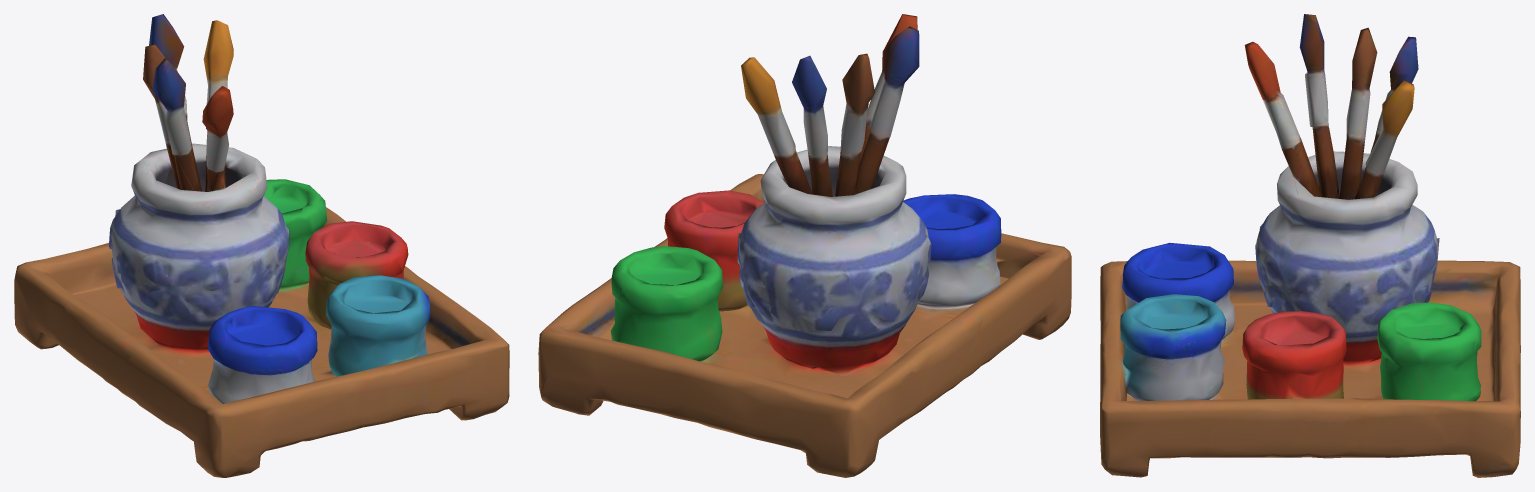
Rendered from paint-set.glb.
3 renders of one model, left to right at view 1: azimuth 30°, elevation 25°; view 2: azimuth 150°, elevation 25°; view 3: azimuth 270°, elevation 25°, orthographic. The views are drawn at different scales.
Parts seen in each view (by area): view 1: tripo_node_2d995150-5925-454d-bd44-f6c2e26e93f2; view 2: tripo_node_2d995150-5925-454d-bd44-f6c2e26e93f2; view 3: tripo_node_2d995150-5925-454d-bd44-f6c2e26e93f2.
Boxes of the visible parts, x1,y1,x2,y2 form: tripo_node_2d995150-5925-454d-bd44-f6c2e26e93f2: [14, 14, 509, 477]; tripo_node_2d995150-5925-454d-bd44-f6c2e26e93f2: [538, 14, 1071, 477]; tripo_node_2d995150-5925-454d-bd44-f6c2e26e93f2: [1100, 14, 1520, 477].
Size of the model in its own units: 0.8366 by 0.9089 by 1.
1 material, 1 textured.
